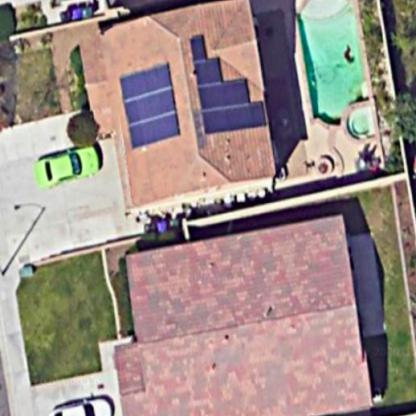car: (36, 141, 105, 186), (48, 389, 119, 416)
solar_panel: (183, 23, 271, 140), (114, 50, 187, 159)
swimming_pool: (282, 1, 382, 142)
